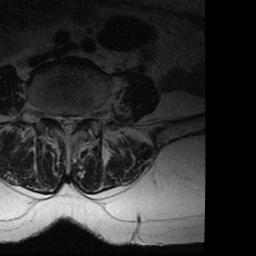CCS_normal: (64, 106, 72, 144)
LFS_stenosis: (80, 105, 90, 128)
LLS_normal: (72, 106, 80, 137)
RFS_severe_stenosis: (45, 104, 55, 131)
RLS_normal: (55, 106, 64, 135)
